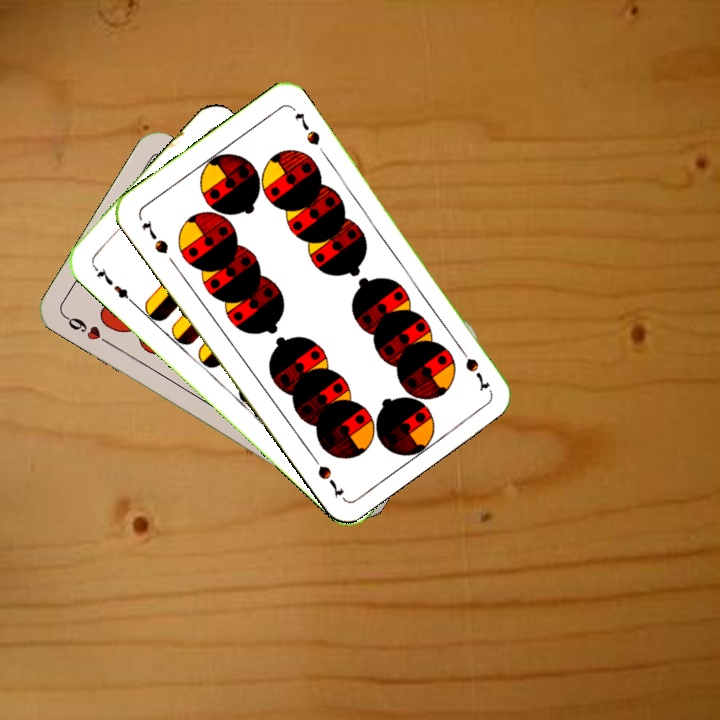E7: (89, 261, 136, 306)
H9: (60, 311, 113, 348)
S7: (453, 340, 493, 394), (138, 215, 172, 257)
